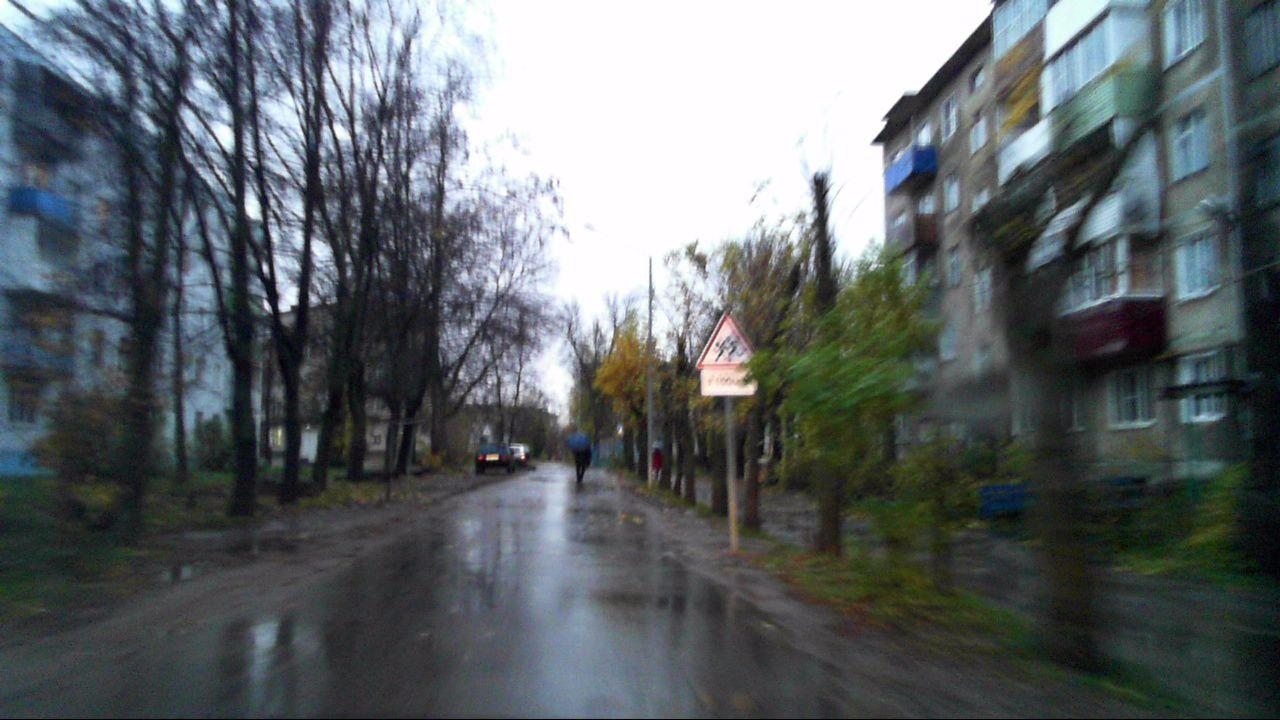1_23: (694, 308, 760, 368)
8_2_1: (700, 369, 757, 397)
